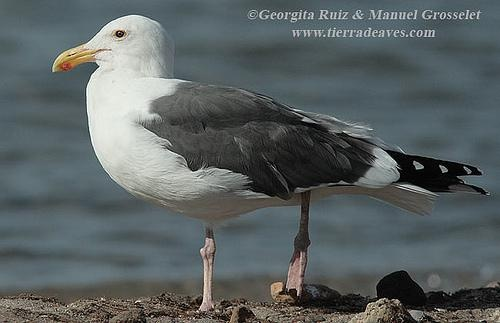bird: (51, 12, 489, 312)
